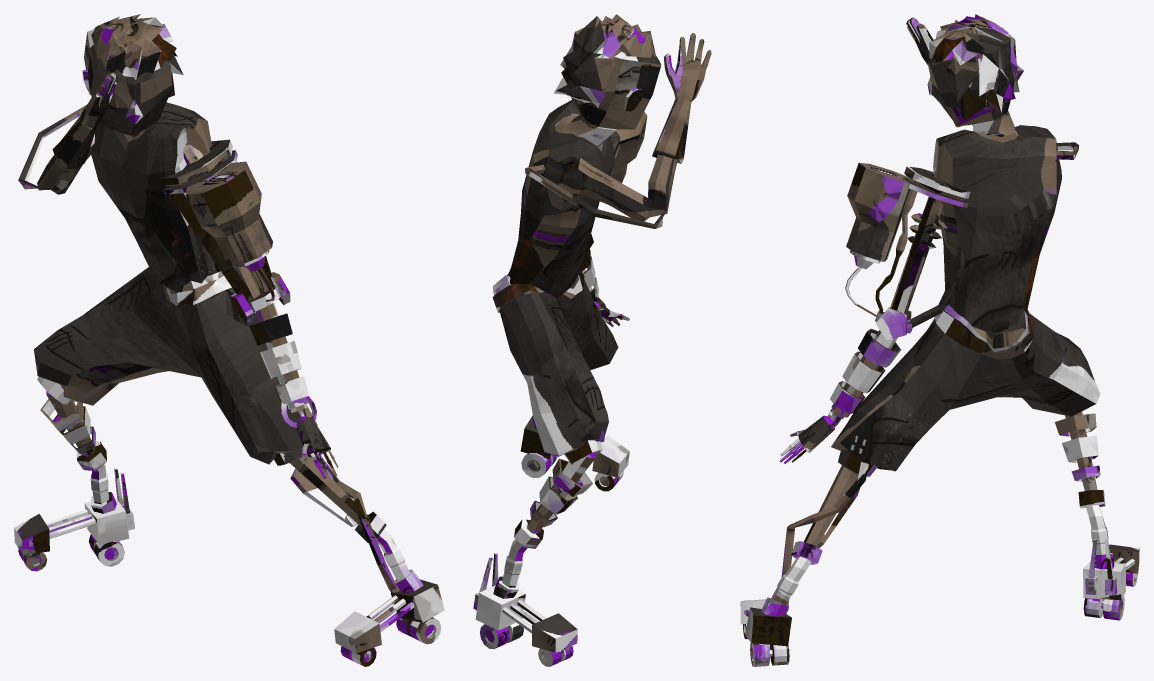
File: CyborgFINALAnimation_000016.obj
3 views of the same model, side by side, from view 1: azimuth 30°, elevation 25°; view 2: azimuth 150°, elevation 25°; view 3: azimuth 270°, elevation 25° (orthographic). The views are drawn at different scales.
Parts seen in each view (by area): view 1: CyborgMesh_Cube.002; view 2: CyborgMesh_Cube.002; view 3: CyborgMesh_Cube.002.
Boxes of the visible parts, x1,y1,x2,y2 form: CyborgMesh_Cube.002: (14,14,444,666); CyborgMesh_Cube.002: (473,14,711,666); CyborgMesh_Cube.002: (740,14,1139,666).
Size of the model in its own units: 4.15 by 8.65 by 5.44.
